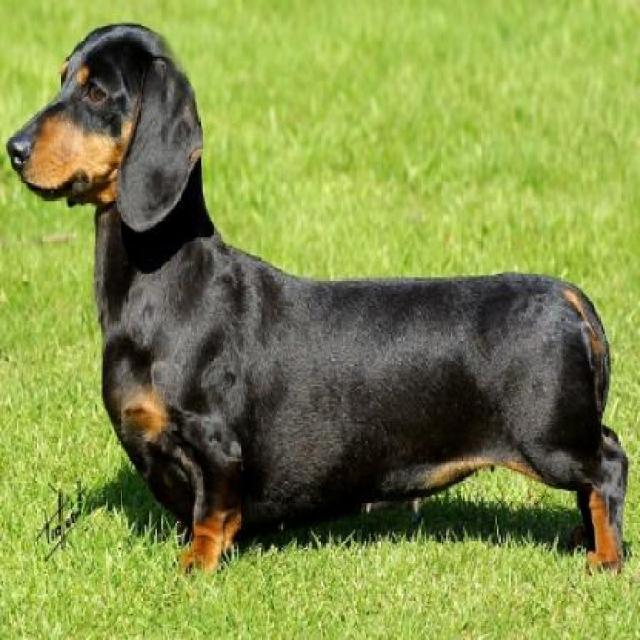Dog: (6, 23, 629, 585)
